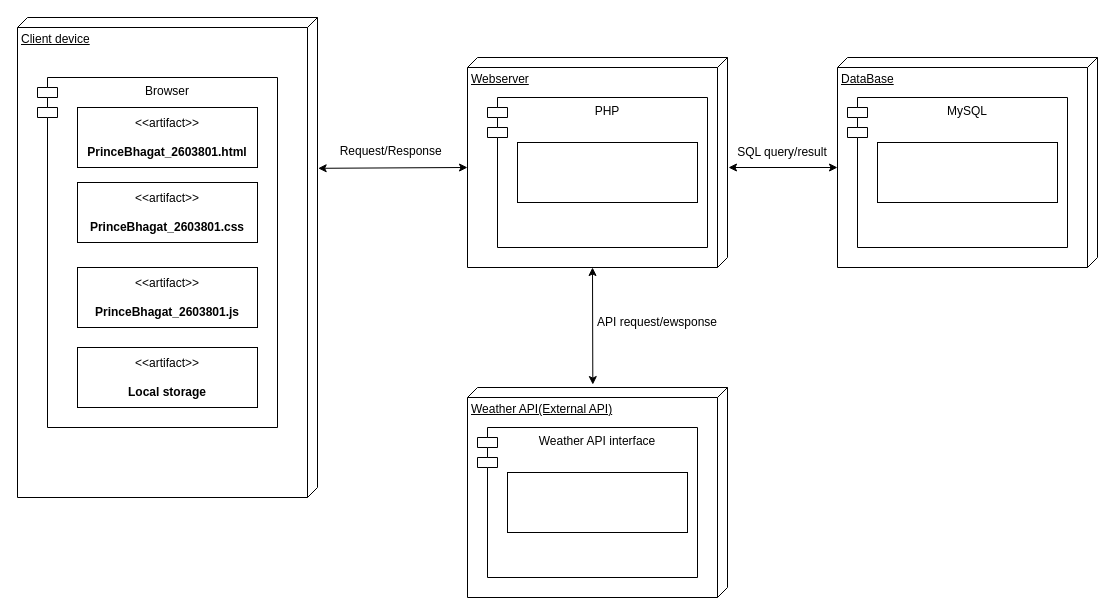
The diagram is 1115 pixels wide and 615 high, and some of its shapes have lost their labels. The shapes that lost their labels are listed below. From the top down, each one's centre as x and y in pixels, then its label:
At pixel 607 172: "<<artifact>> PrinceBhagat_2603801.php".
At pixel 967 172: "<<artifact>> weather".
At pixel 597 502: "<<artifact>> Weather data".
